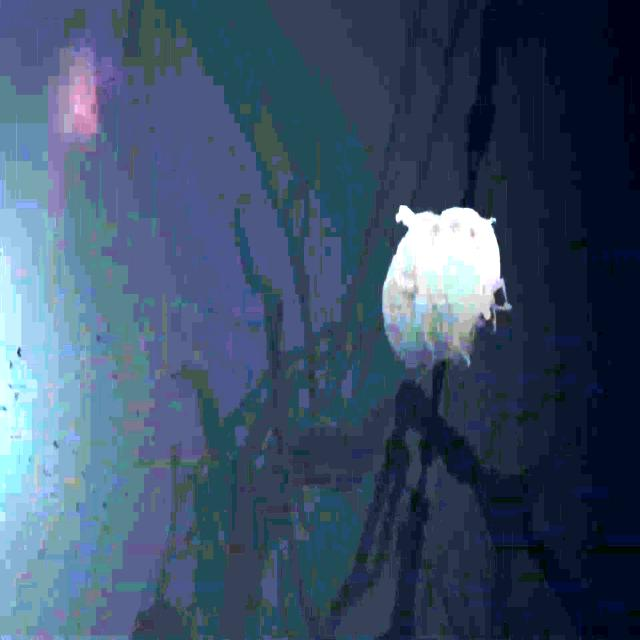blob: (385, 206, 510, 374)
